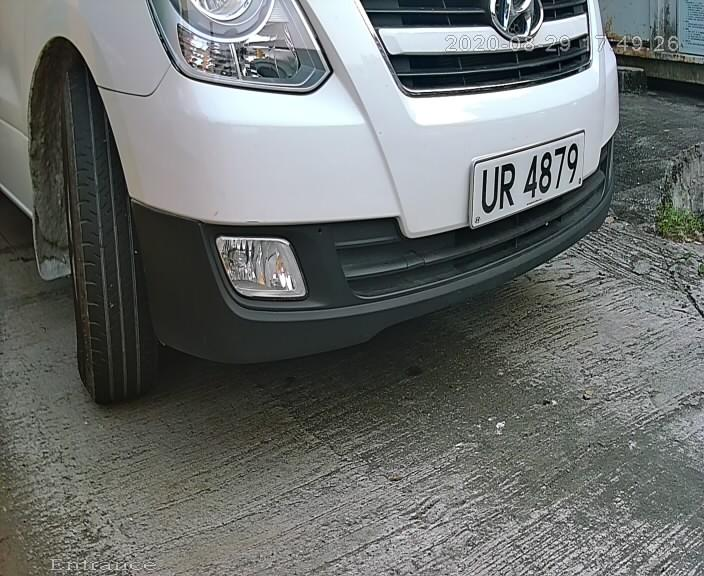License Plate: (456, 124, 601, 232)
